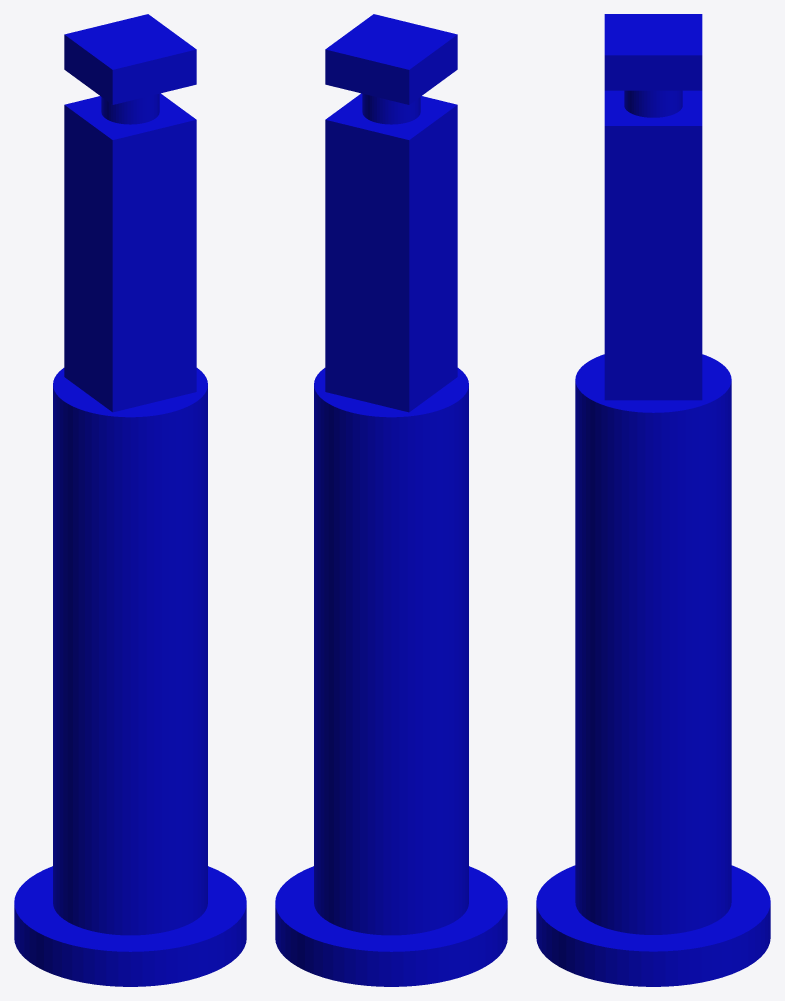
The model's file is axe-main_PCBWay Community.005.dae.
3 views of the same model, side by side, from view 1: azimuth 30°, elevation 25°; view 2: azimuth 150°, elevation 25°; view 3: azimuth 270°, elevation 25° (orthographic).
Parts seen in each view (by area): view 1: tmp_export_axe-main_PCBWay Community.005; view 2: tmp_export_axe-main_PCBWay Community.005; view 3: tmp_export_axe-main_PCBWay Community.005.
Part boxes in pixels (box(x1,y1,x2,y2)): tmp_export_axe-main_PCBWay Community.005: box(14, 14, 246, 986); tmp_export_axe-main_PCBWay Community.005: box(275, 14, 507, 986); tmp_export_axe-main_PCBWay Community.005: box(536, 14, 770, 986).
Size of the model in its own units: 12 by 12 by 51.
